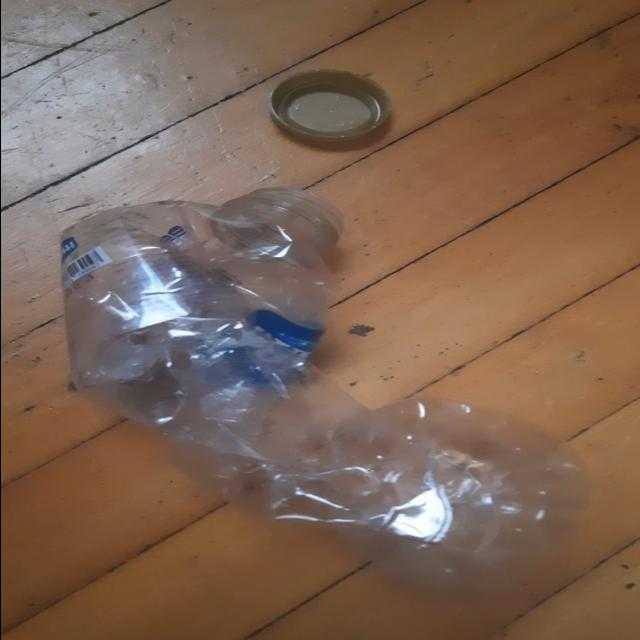Plastic: (59, 190, 591, 592), (264, 68, 388, 152)
